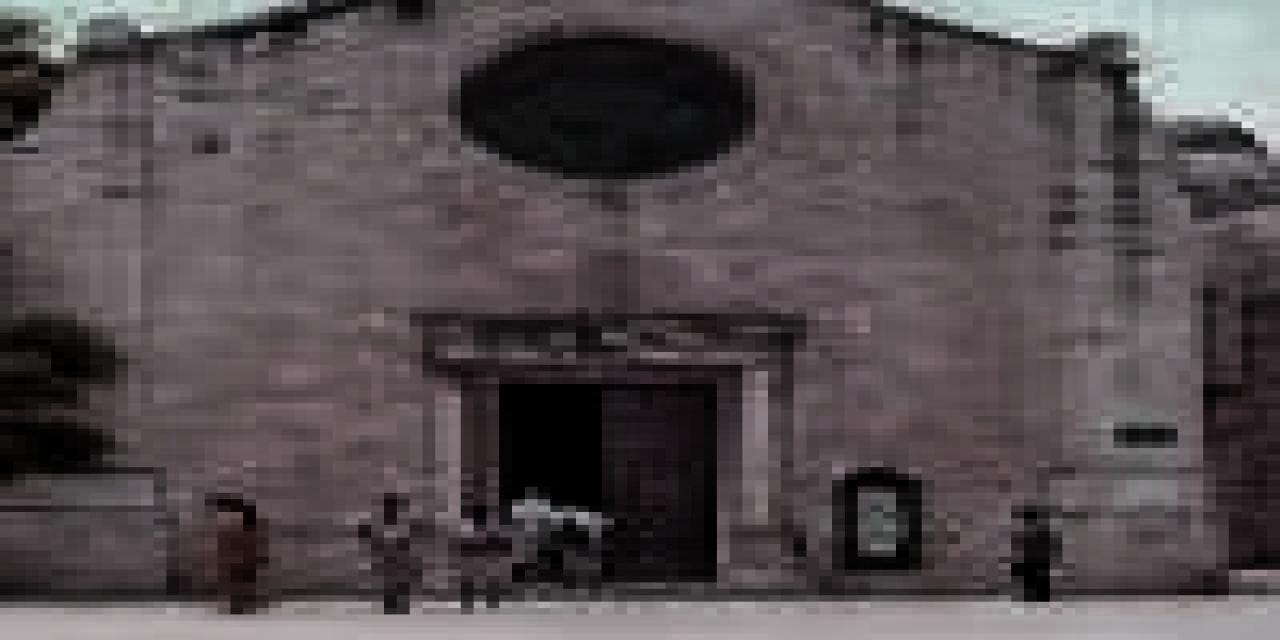Agia Aikaterini: (1, 2, 1270, 606)
